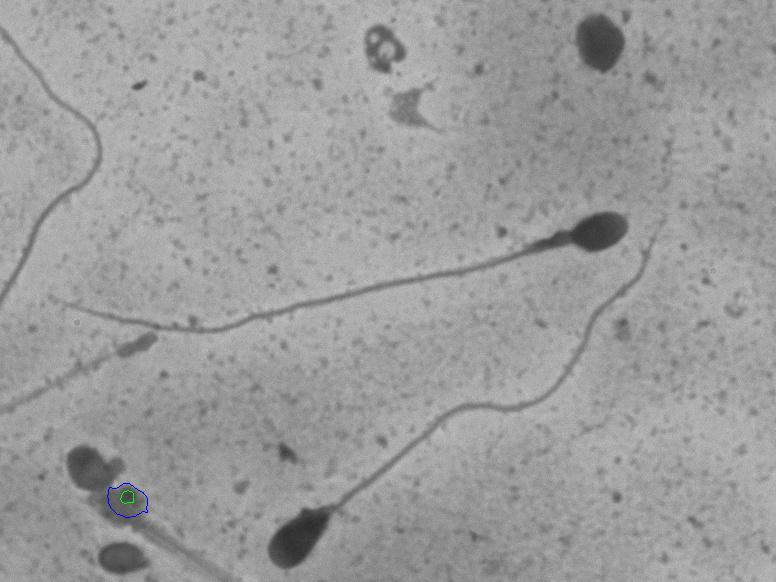Abnormal: (242, 203, 691, 575)
Normal: (36, 184, 634, 350)
